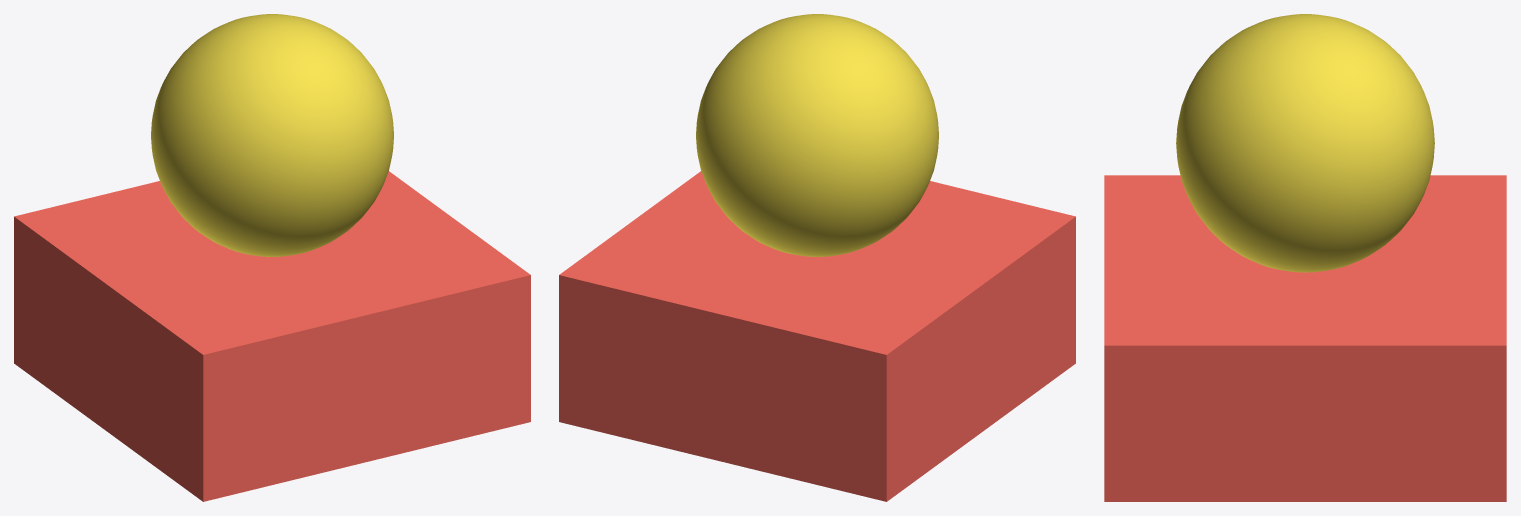
The model's file is sample.glb.
3 views of the same model, side by side, from view 1: azimuth 30°, elevation 25°; view 2: azimuth 150°, elevation 25°; view 3: azimuth 270°, elevation 25° (orthographic). The views are drawn at different scales.
Visible parts, largest first — view 1: Plinth, Orb; view 2: Plinth, Orb; view 3: Plinth, Orb.
Boxes of the visible parts, bbox=[...] form: Plinth: bbox=[14, 171, 530, 501]; Orb: bbox=[151, 14, 393, 256]; Plinth: bbox=[559, 171, 1075, 501]; Orb: bbox=[696, 14, 938, 256]; Plinth: bbox=[1104, 175, 1506, 501]; Orb: bbox=[1176, 14, 1434, 272].
Bounding box in the file's own units: 1.4 × 1.5 × 1.4.
